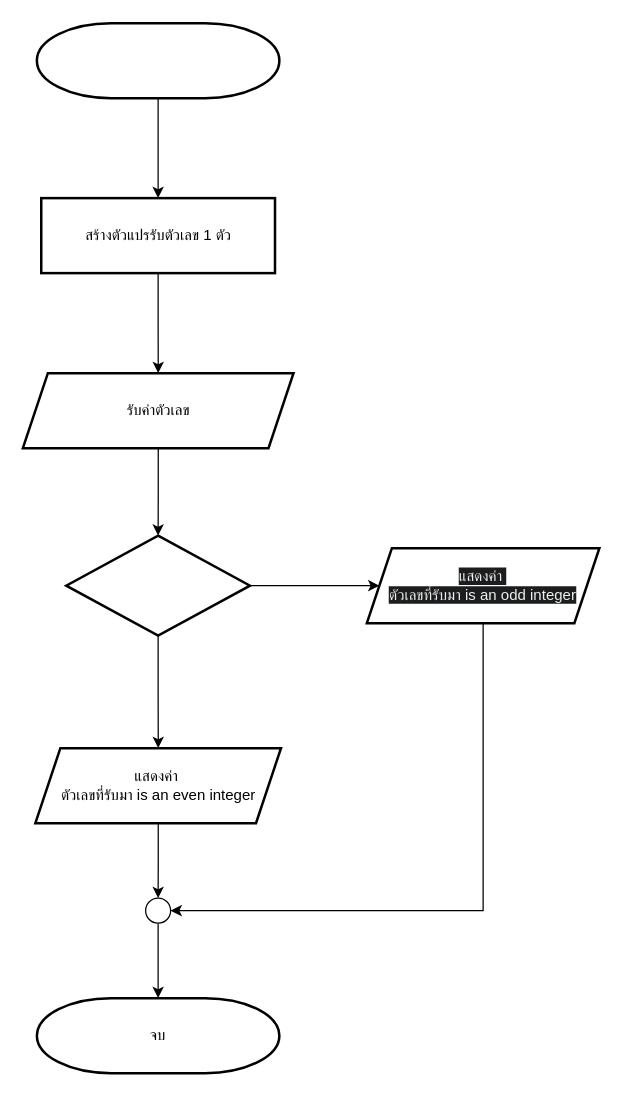
This 623x1095 diagram has some shape labels left out. The shapes that lost their labels are listed below. From the top down, each one's box as (x1, y1, x2, y2) in pixels, then its label:
(35, 21, 280, 99): เริ่ม
(64, 534, 251, 636): ถ้าเลขเป็นเลขคู่
